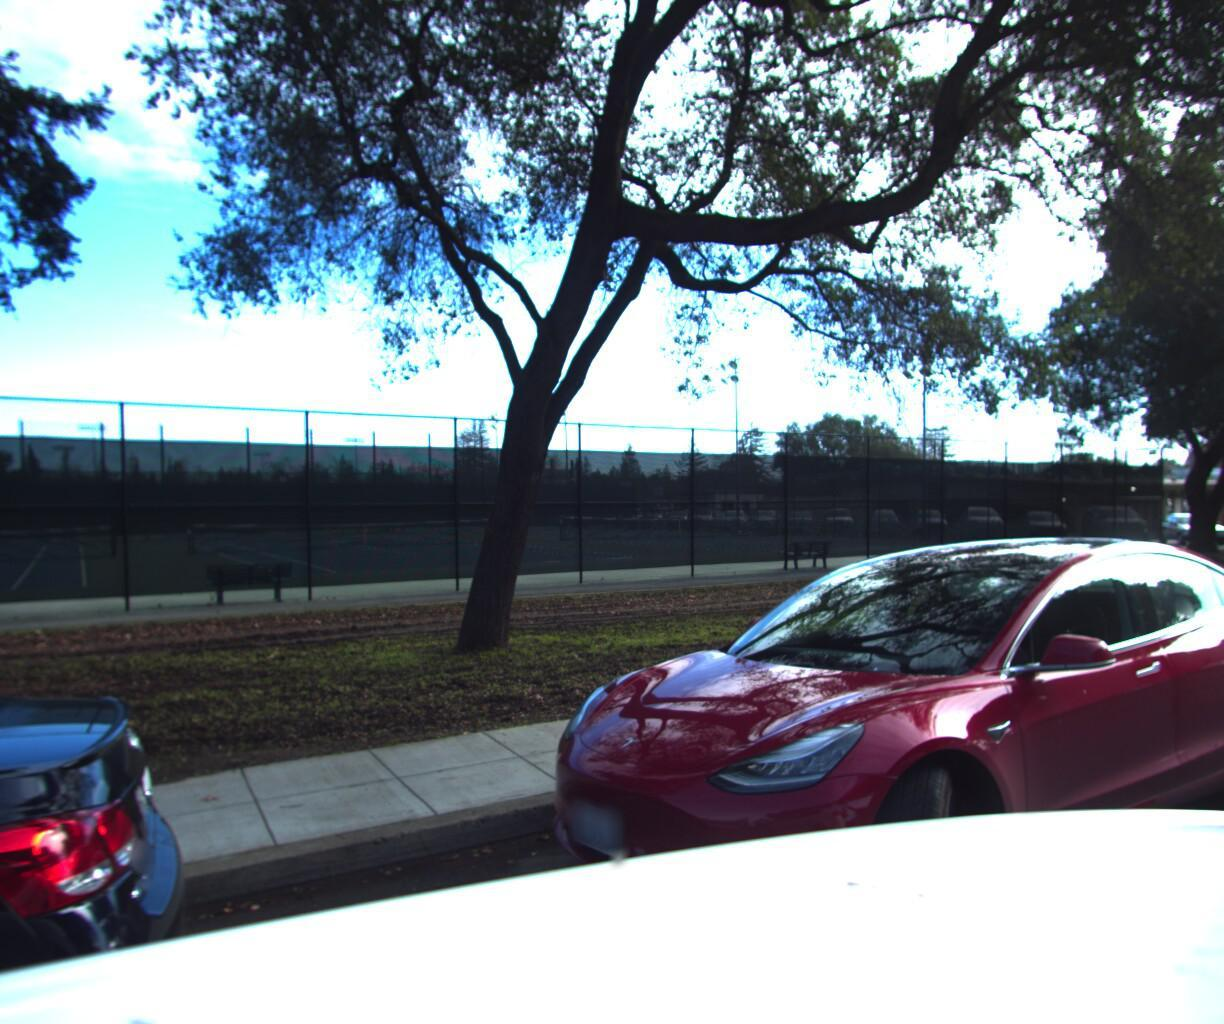car: (468, 517, 1224, 1024)
